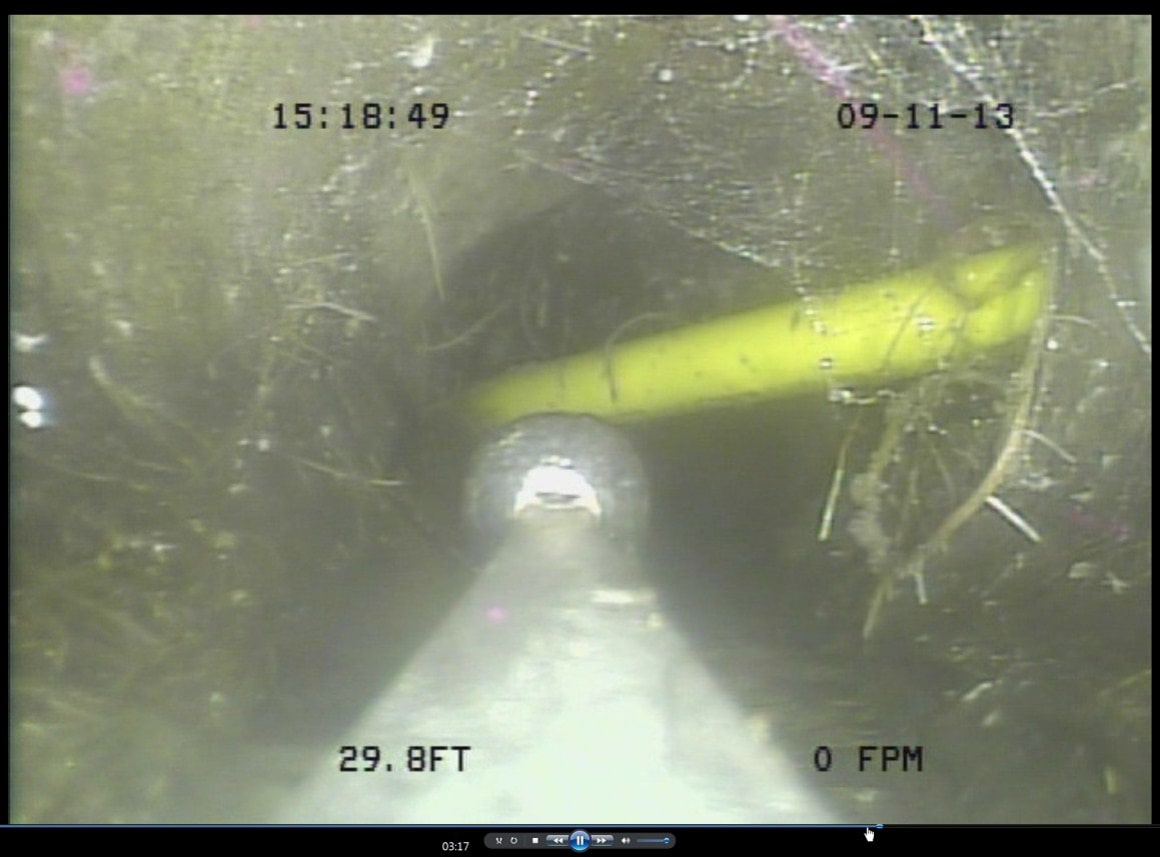cb: (390, 223, 1077, 461)
